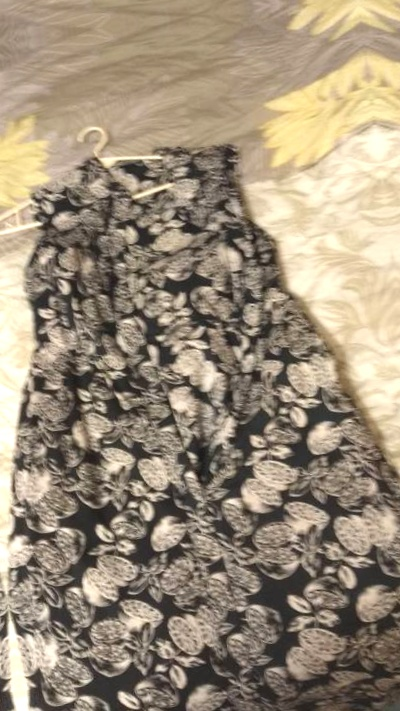Dress: (0, 103, 400, 711), (377, 46, 400, 696), (0, 159, 23, 711), (34, 710, 400, 711)
